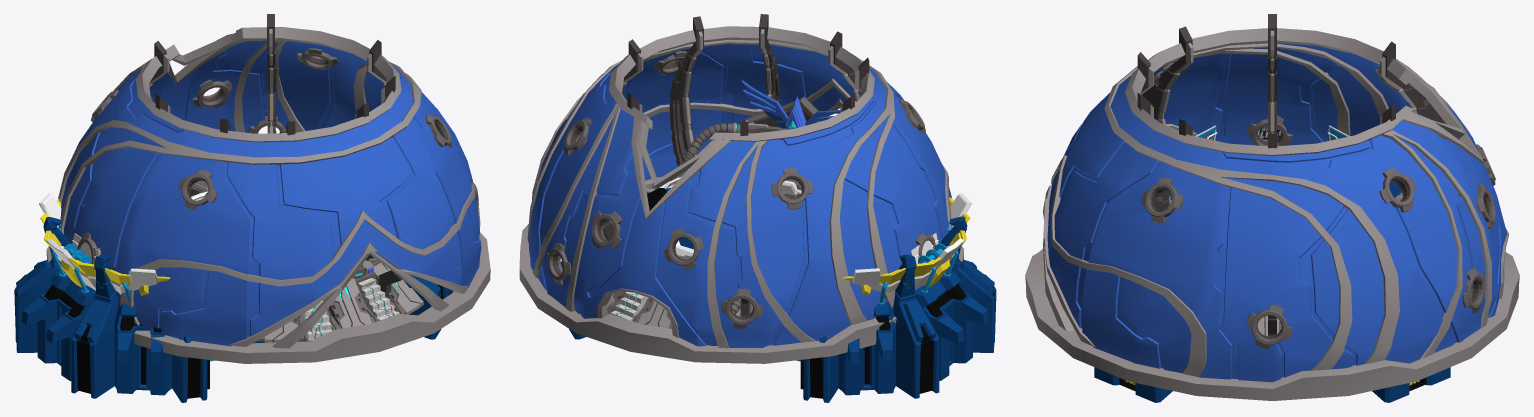
File: arena_proseriesbattle.fbx
3 renders of one model, left to right at view 1: azimuth 30°, elevation 25°; view 2: azimuth 150°, elevation 25°; view 3: azimuth 270°, elevation 25°, orthographic. The views are drawn at different scales.
Parts seen in each view (by area): view 1: Glass (×2), Frame_Glass, Arena, main_Arena, Frame_Buttress; view 2: Glass (×2), Frame_Glass, Arena, Frame_Buttress, main_Arena, Pipes; view 3: Glass, Frame_Glass, Frame_Buttress, Arena.
Part boxes in pixels (x1,y1,x2,y2): Glass (×2): (39,40,481,346); Frame_Glass: (46,26,490,363); Arena: (14,217,453,402); main_Arena: (190,180,423,342); Frame_Buttress: (149,14,409,317); Glass (×2): (529,44,971,347); Frame_Glass: (519,26,964,363); Arena: (561,188,996,402); Frame_Buttress: (603,14,869,316); main_Arena: (607,80,840,328); Pipes: (679,122,751,314); Glass: (1047,43,1507,382); Frame_Glass: (1025,28,1519,400); Frame_Buttress: (1137,14,1446,336); Arena: (1094,125,1450,402).
Size of the model in its own units: 62.74 by 35.18 by 57.2.
Materials: 8 (8 with a texture image).
